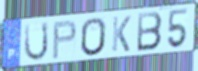5: (166, 7, 189, 51)
B: (136, 10, 164, 53)
K: (111, 15, 132, 53)
O: (80, 16, 108, 58)
P: (51, 19, 78, 61)
U: (23, 20, 50, 63)
